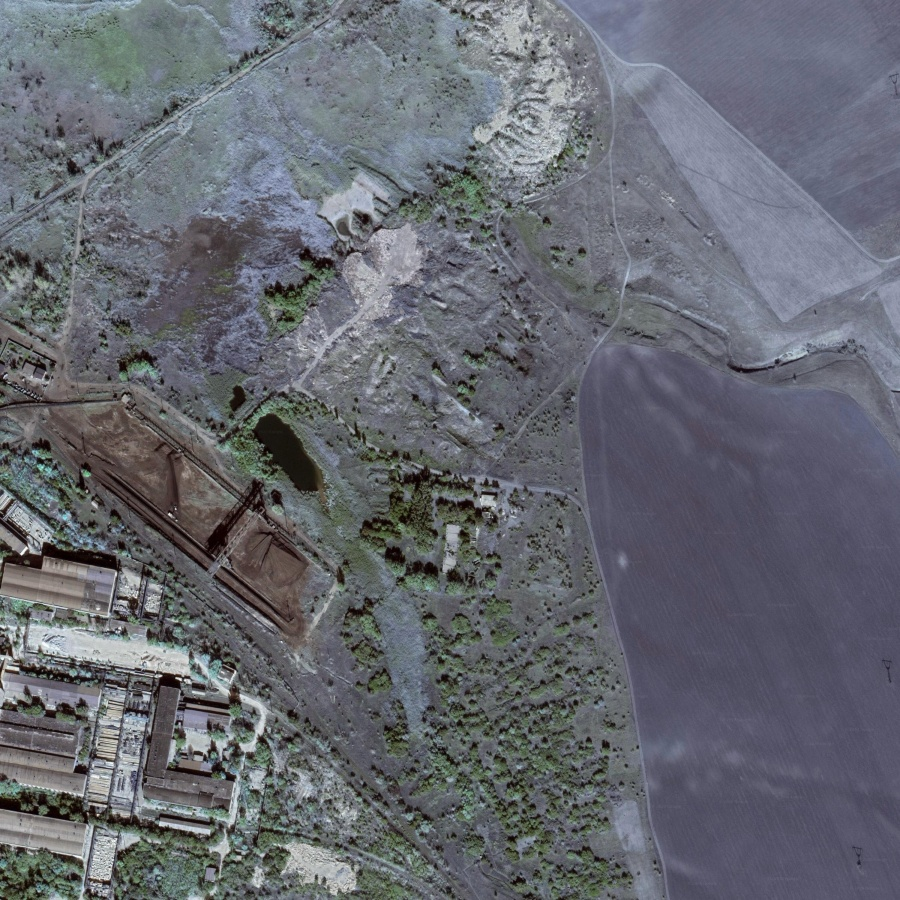PowerPlant: (24, 383, 314, 636)
